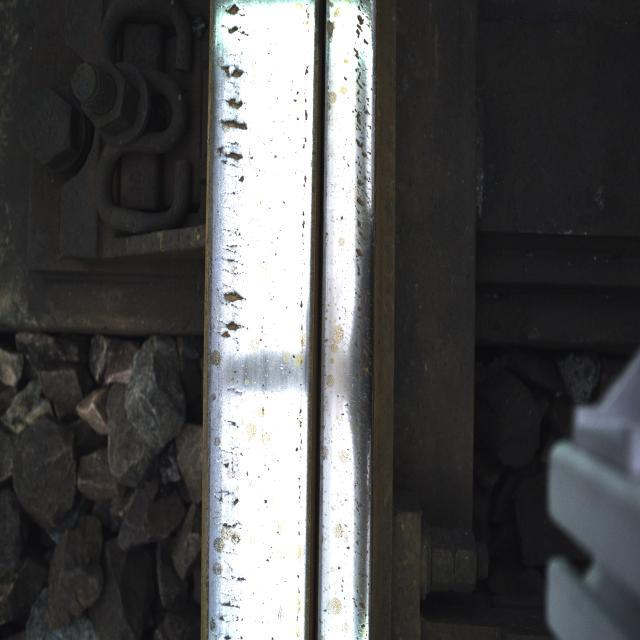scar: (205, 0, 261, 201)
